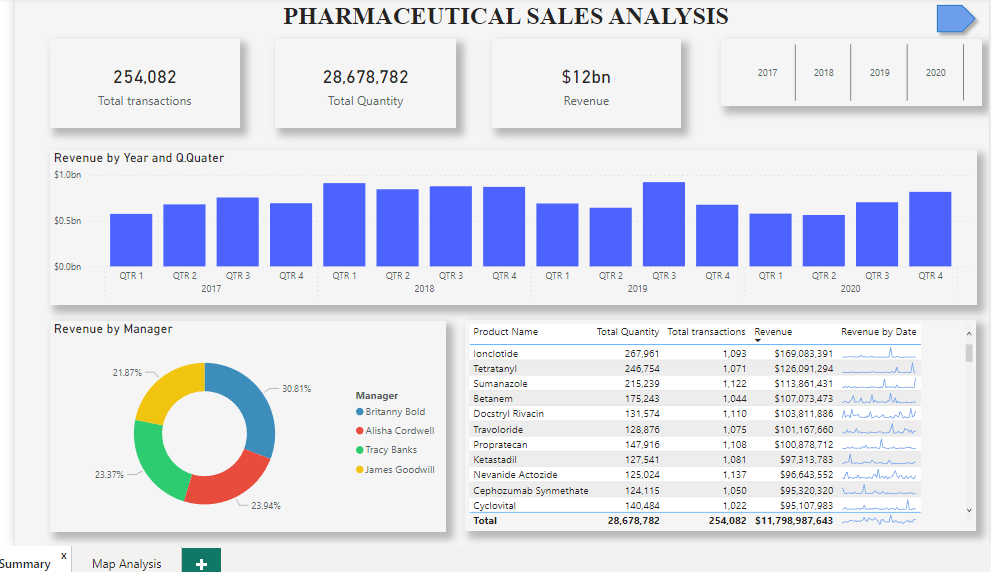

Layout of this report page (visuals, bound fields, positions):
{"tool":"powerbi","page":{"name":"Revenue Summary","canvas":[1280,720],"ordinal":0},"visuals":[{"type":"card","fields":{"Values":["PharmData.Total transactions"]},"box":[45.4,53.7,249.1,117],"z":0},{"type":"card","fields":{"Values":["PharmData.Total Quantity"]},"box":[341.3,53.7,238.1,117],"z":1000},{"type":"card","fields":{"Values":["PharmData.Revenue"]},"box":[626.2,53.7,247.7,117],"z":2000},{"type":"clusteredColumnChart","fields":{"Category":["Calendar.Year Hierarchy.Year","Calendar.Year Hierarchy.Q.Quater","Calendar.Year Hierarchy.Short Month"],"Y":["PharmData.Revenue"]},"box":[45.4,199.6,1218.1,203.7],"z":3000},{"type":"donutChart","fields":{"Y":["PharmData.Revenue"],"Category":["DimSales.Manager"]},"box":[45.4,423.9,520.3,276.6],"z":4000},{"type":"tableEx","fields":{"Values":["DimProduct.Product Name","PharmData.Total Quantity","PharmData.Total transactions","PharmData.Revenue","SparklineData(PharmData.Revenue_[Calendar.Date])"]},"box":[591.3,423.3,671.9,277.2],"z":5000},{"type":"slicer","fields":{"Values":["Calendar.Year"]},"box":[927.7,53.7,342.7,88.1],"z":6000},{"type":"textbox","box":[336,0,618.2,77.3],"z":7000},{"type":"shape","box":[1201.5,0,68.8,53.7],"z":8000}]}

Visuals, with their boxes on the page's 1280x720 design canvas (x1, y1, x2, y2). These are canvas units, not pixel positions in the 991x572 screenshot, which may show the page scaled, cropped or inside an application window:
card - PharmData.Total transactions: 45 54 294 171
card - PharmData.Total Quantity: 341 54 579 171
card - PharmData.Revenue: 626 54 874 171
clusteredColumnChart - Calendar.Year Hierarchy.Year x Calendar.Year Hierarchy.Q.Quater: 45 200 1264 403
donutChart - PharmData.Revenue x DimSales.Manager: 45 424 566 700
tableEx - DimProduct.Product Name x PharmData.Total Quantity: 591 423 1263 700
slicer - Calendar.Year: 928 54 1270 142
textbox: 336 0 954 77
shape: 1202 0 1270 54
